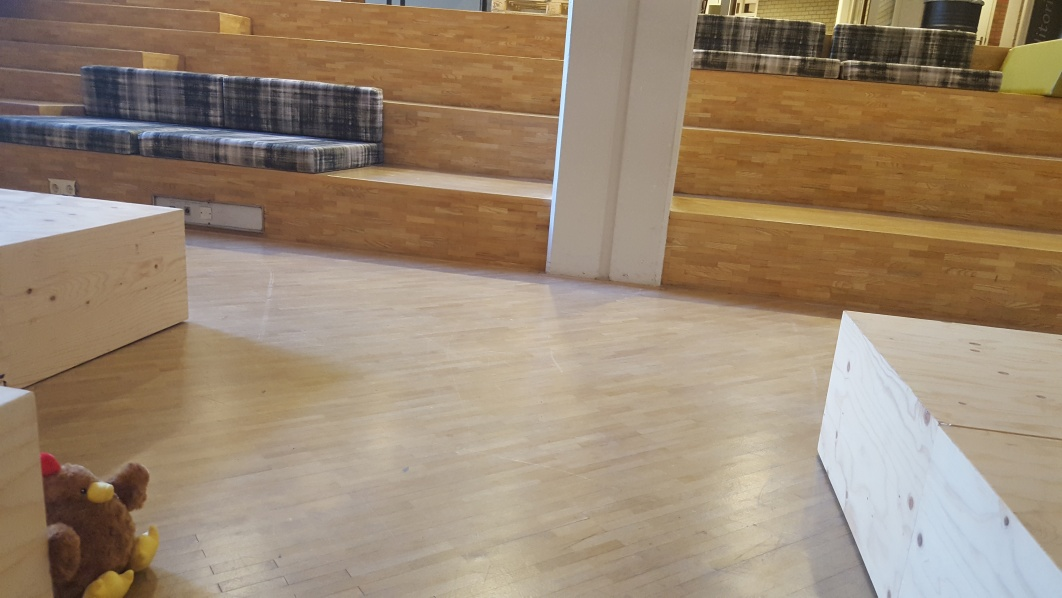chicken: (36, 453, 164, 598)
